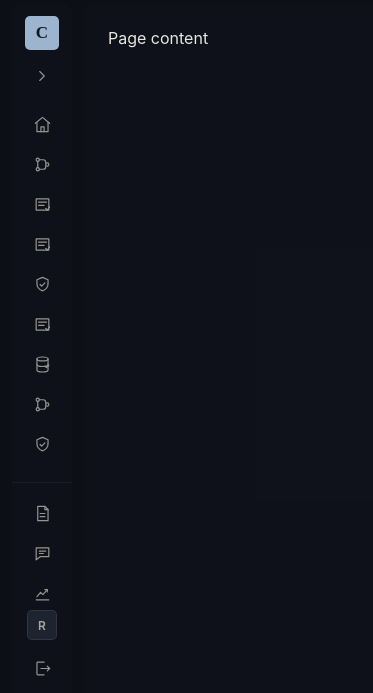
Scenario: global workspace navigation › labels the active destination and keeps grouped links accessible when collapsed
Click the button with class "rail__toggle" at point(42, 76), box x1=28 y1=62 x2=56 y2=90
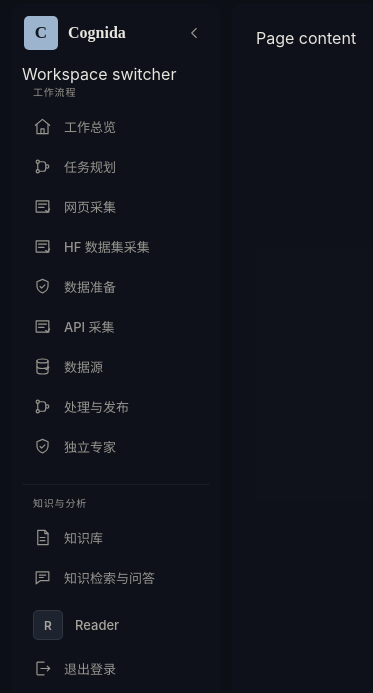
expect the button with class "rail__toggle" is expanded: met, box x1=180 y1=19 x2=208 y2=47
